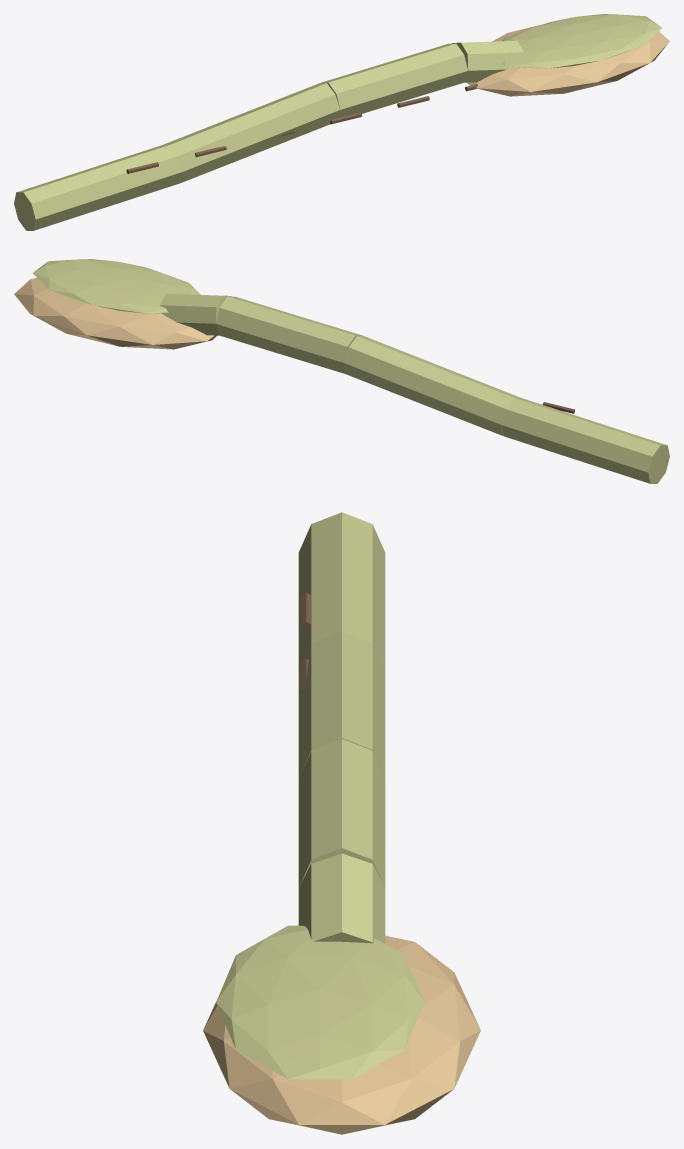
The model's file is tea_chashaku.glb.
3 views of the same model, one above another, from view 1: azimuth 30°, elevation 25°; view 2: azimuth 150°, elevation 25°; view 3: azimuth 270°, elevation 25° (orthographic). The views are drawn at different scales.
Visible parts, largest first — view 1: Bamboo long shaft_01, Bamboo long shaft_00, Scooped hollow, Bamboo long shaft_02, Thin raised scoop, Bamboo long shaft_03; view 2: Bamboo long shaft_01, Bamboo long shaft_00, Thin raised scoop, Scooped hollow, Bamboo long shaft_02, Bamboo long shaft_03; view 3: Scooped hollow, Thin raised scoop, Bamboo long shaft_00, Bamboo long shaft_02, Bamboo long shaft_01, Bamboo long shaft_03.
Boxes of the visible parts, x1,y1,x2,y2 form: Bamboo long shaft_01: (163, 83, 340, 182); Bamboo long shaft_00: (14, 145, 182, 230); Scooped hollow: (501, 14, 661, 68); Bamboo long shaft_02: (321, 43, 467, 117); Thin raised scoop: (467, 24, 669, 96); Bamboo long shaft_03: (452, 40, 523, 82); Bamboo long shaft_01: (343, 336, 520, 435); Bamboo long shaft_00: (501, 398, 669, 483); Thin raised scoop: (14, 277, 216, 349); Scooped hollow: (33, 259, 200, 313); Bamboo long shaft_02: (216, 296, 362, 373); Bamboo long shaft_03: (160, 293, 231, 335); Scooped hollow: (216, 925, 424, 1079); Thin raised scoop: (203, 935, 480, 1134); Bamboo long shaft_00: (298, 512, 385, 671); Bamboo long shaft_02: (298, 739, 385, 887); Bamboo long shaft_01: (298, 631, 385, 778); Bamboo long shaft_03: (298, 853, 385, 943).
Size of the model in its own units: 1.95 by 0.2419 by 0.3691.
